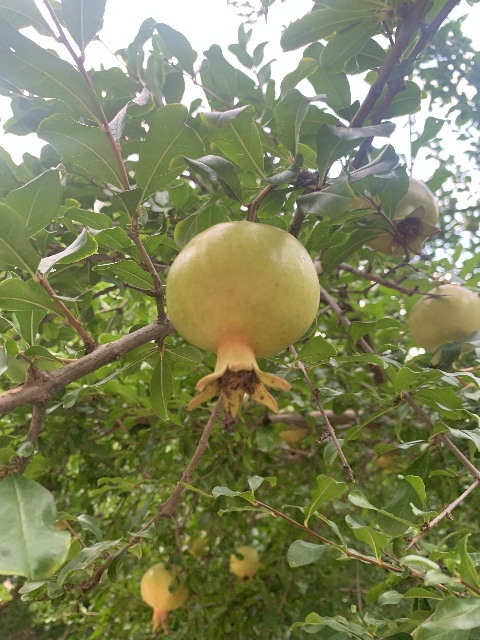mid-growth: (165, 220, 320, 417), (349, 175, 442, 257), (406, 283, 480, 370), (140, 562, 188, 634), (276, 406, 307, 445), (229, 546, 260, 582), (183, 529, 209, 559)
